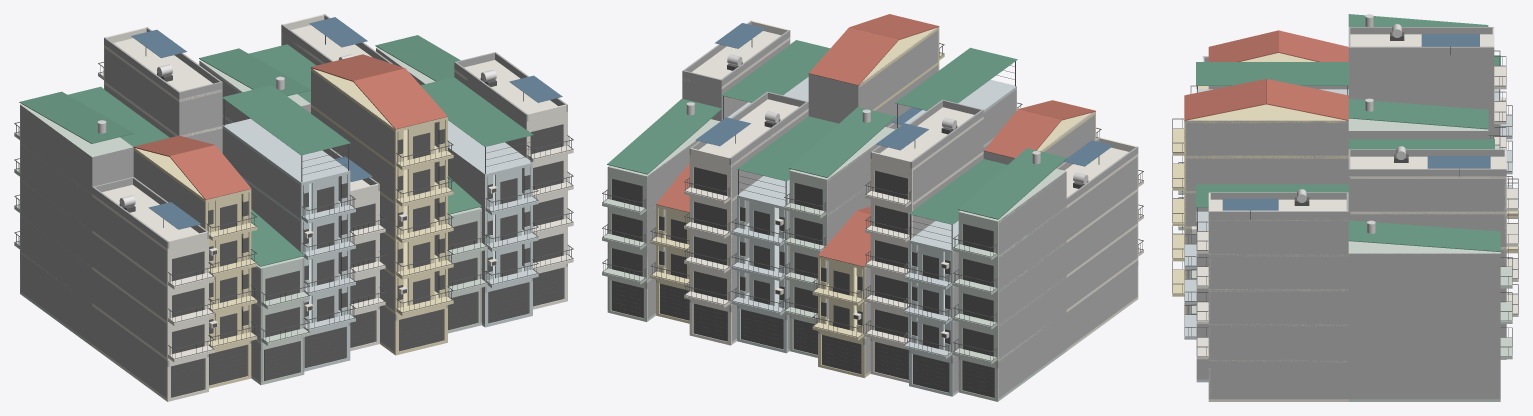
Rendered from VietnameseTubeHouseBlock.glb.
The picture shows the model from 3 angles, left to right: view 1: azimuth 30°, elevation 25°; view 2: azimuth 150°, elevation 25°; view 3: azimuth 270°, elevation 25°; orthographic projection. The views are drawn at different scales.
Parts seen in each view (by area): view 1: Merged_SideWalls, Merged_Metal_Structures, Merged_Roofs_Green, Merged_Facade_Cream, Merged_Facade_Yellow, Merged_Facade_Blue, Merged_Roofs_Red, Merged_Facade_Green, Merged_Roofs_Blue, Merged_WaterTanks; view 2: Merged_SideWalls, Merged_Metal_Structures, Merged_Roofs_Green, Merged_Facade_Cream, Merged_Facade_Green, Merged_Facade_Blue, Merged_Roofs_Red, Merged_Facade_Yellow, Merged_Roofs_Blue, Merged_WaterTanks; view 3: Merged_SideWalls, Merged_Roofs_Green, Merged_Facade_Cream, Merged_Roofs_Red, Merged_Facade_Yellow, Merged_Facade_Green, Merged_Metal_Structures, Merged_Roofs_Blue, Merged_Facade_Blue, Merged_WaterTanks.
Part boxes in pixels (bbox=[...]): Merged_SideWalls: bbox=[20, 14, 567, 397]; Merged_Metal_Structures: bbox=[14, 35, 573, 397]; Merged_Roofs_Green: bbox=[19, 35, 533, 266]; Merged_Facade_Cream: bbox=[92, 14, 573, 401]; Merged_Facade_Yellow: bbox=[133, 68, 453, 388]; Merged_Facade_Blue: bbox=[222, 118, 538, 371]; Merged_Roofs_Red: bbox=[134, 54, 447, 199]; Merged_Facade_Green: bbox=[14, 47, 487, 385]; Merged_Roofs_Blue: bbox=[131, 17, 562, 229]; Merged_WaterTanks: bbox=[97, 54, 496, 207]; Merged_SideWalls: bbox=[607, 20, 1138, 398]; Merged_Metal_Structures: bbox=[602, 39, 1143, 397]; Merged_Roofs_Green: bbox=[607, 40, 1066, 224]; Merged_Facade_Cream: bbox=[684, 21, 1143, 382]; Merged_Facade_Green: bbox=[602, 119, 1066, 401]; Merged_Facade_Blue: bbox=[727, 77, 1016, 396]; Merged_Roofs_Red: bbox=[656, 14, 1095, 266]; Merged_Facade_Yellow: bbox=[650, 27, 1097, 377]; Merged_Roofs_Blue: bbox=[695, 23, 1113, 166]; Merged_WaterTanks: bbox=[686, 54, 1088, 184]; Merged_SideWalls: bbox=[1184, 27, 1506, 399]; Merged_Roofs_Green: bbox=[1196, 14, 1500, 251]; Merged_Facade_Cream: bbox=[1191, 27, 1518, 401]; Merged_Roofs_Red: bbox=[1184, 30, 1348, 120]; Merged_Facade_Yellow: bbox=[1172, 53, 1517, 314]; Merged_Facade_Green: bbox=[1178, 118, 1512, 401]; Merged_Metal_Structures: bbox=[1172, 32, 1518, 356]; Merged_Roofs_Blue: bbox=[1222, 34, 1490, 210]; Merged_Facade_Blue: bbox=[1184, 89, 1512, 382]; Merged_WaterTanks: bbox=[1297, 14, 1405, 233].
Bounding box in the file's own units: 37.36 × 21.39 × 28.5.
